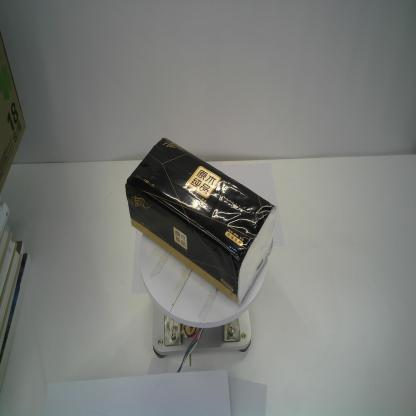Tissue: (124, 136, 278, 304)
